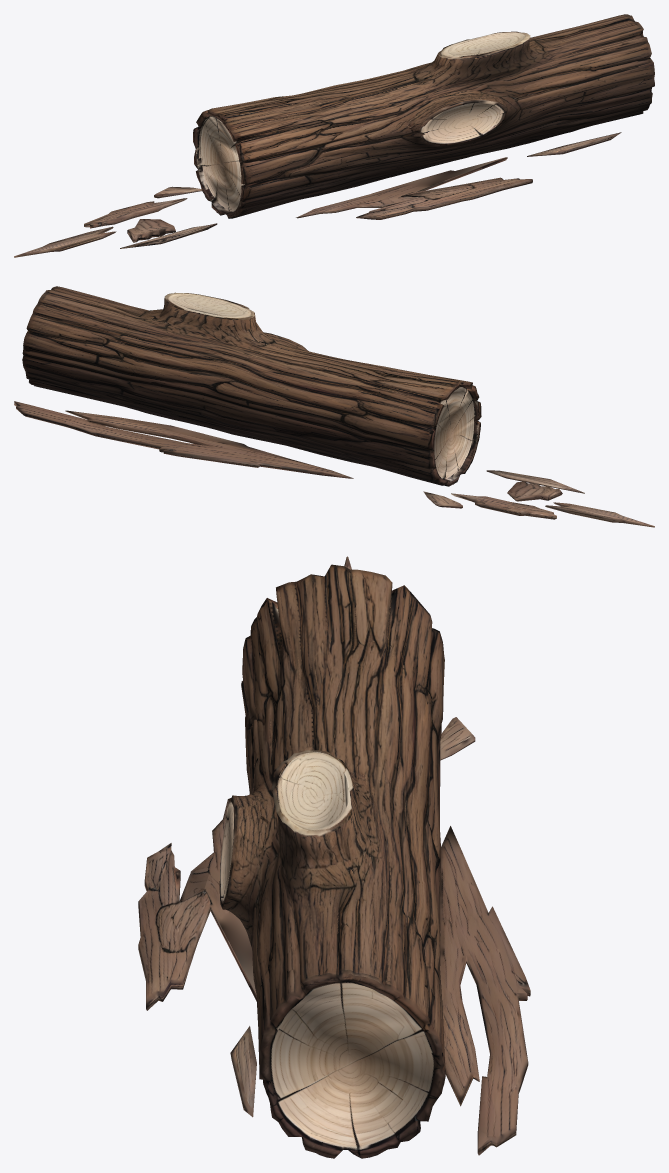
Rendered from TRONCO PARA USAR.fbx.
3 views of the same model, one above another, from view 1: azimuth 30°, elevation 25°; view 2: azimuth 150°, elevation 25°; view 3: azimuth 270°, elevation 25° (orthographic). The views are drawn at different scales.
Visible parts, largest first — view 1: mesh_rep_0_ori_repair; view 2: mesh_rep_0_ori_repair; view 3: mesh_rep_0_ori_repair.
Boxes of the visible parts, <box> form: mesh_rep_0_ori_repair: <box>14,14,654,257</box>; mesh_rep_0_ori_repair: <box>14,286,654,527</box>; mesh_rep_0_ori_repair: <box>138,556,530,1158</box>.
Size of the model in its own units: 972 by 169 by 272.
1 material, 1 textured.
